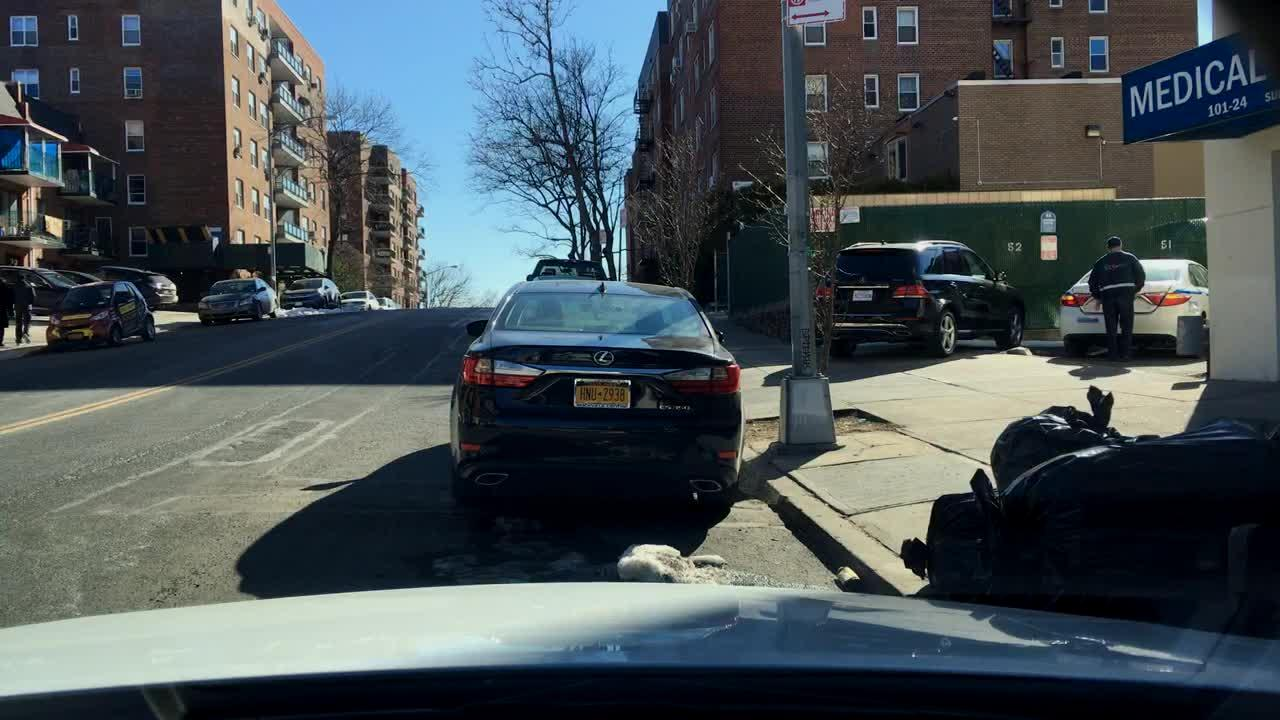lexus: (586, 339, 619, 374)
